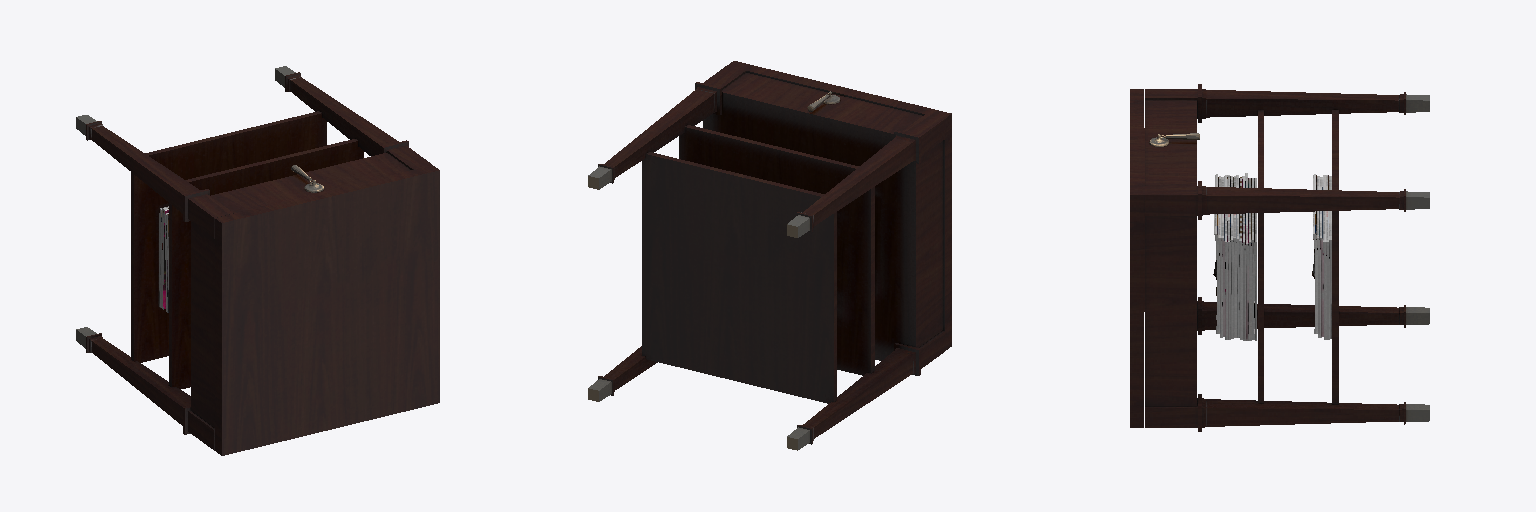
The picture shows the model from 3 angles: view 1: azimuth 30°, elevation 25°; view 2: azimuth 150°, elevation 25°; view 3: azimuth 270°, elevation 25°; orthographic projection.
Bounding box in the file's own units: 0.5169 × 0.5371 × 0.6003.
1 materials, 1 textured.